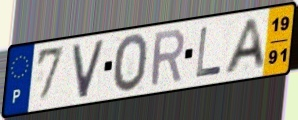7: (34, 44, 68, 106)
A: (222, 16, 268, 76)
L: (194, 24, 223, 79)
O: (112, 32, 150, 95)
R: (149, 26, 186, 89)
V: (70, 38, 107, 102)
